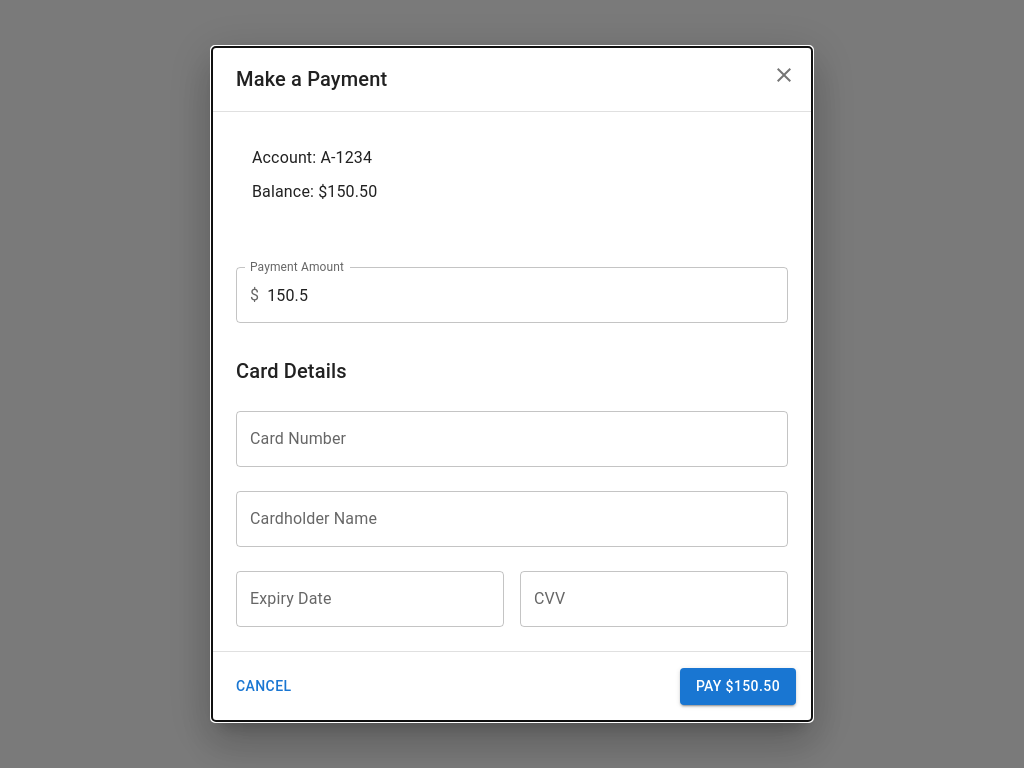
Test case: PaymentModal Component › successfully submits payment with valid form data
The width and height of the screenshot is (1024, 768).
// Fill in form fields with valid data
Type "4111111111111111" into the field labelled "Card Number".
click(512, 439); type("4111111111111111")  # box [236,411,788,467]
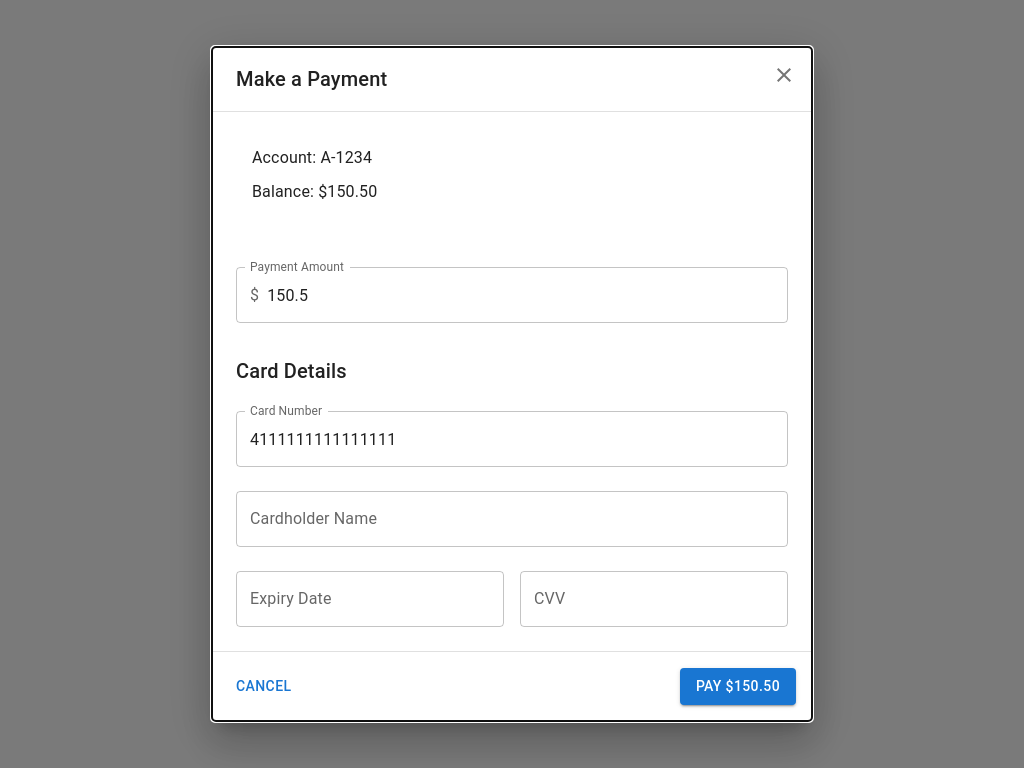
Type "John Doe" into the field labelled "Cardholder Name".
click(512, 519); type("John Doe")  # box [236,491,788,547]
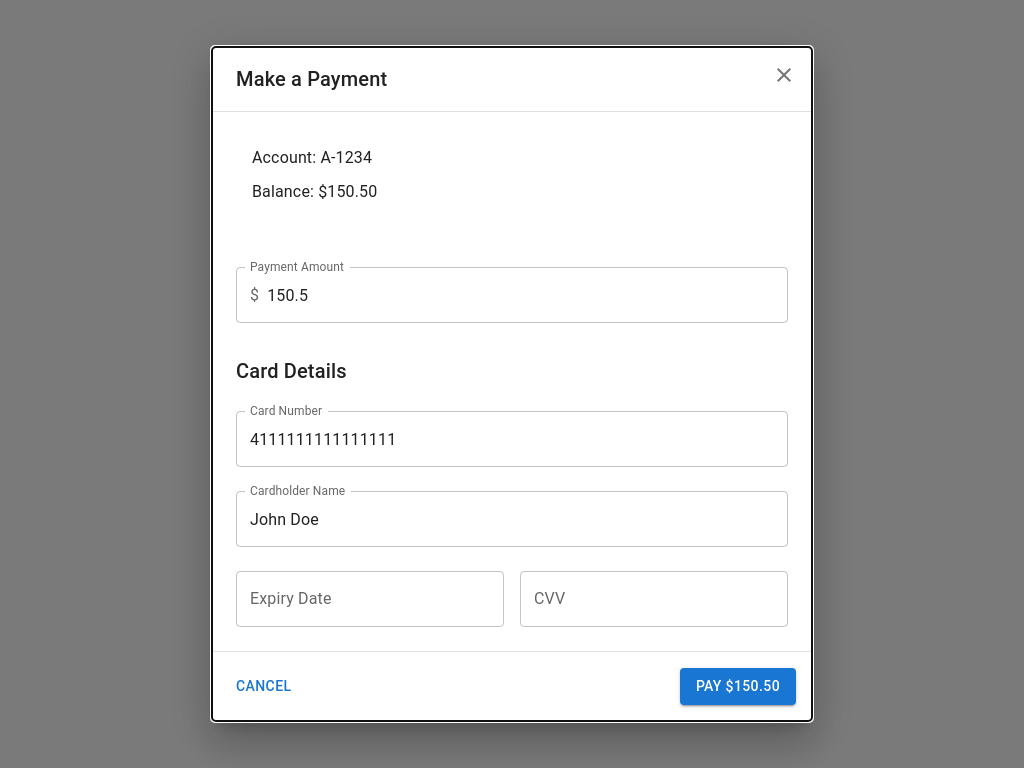
Type "12/30" into the field labelled "Expiry Date".
click(370, 599); type("12/30")  # box [236,571,504,627]
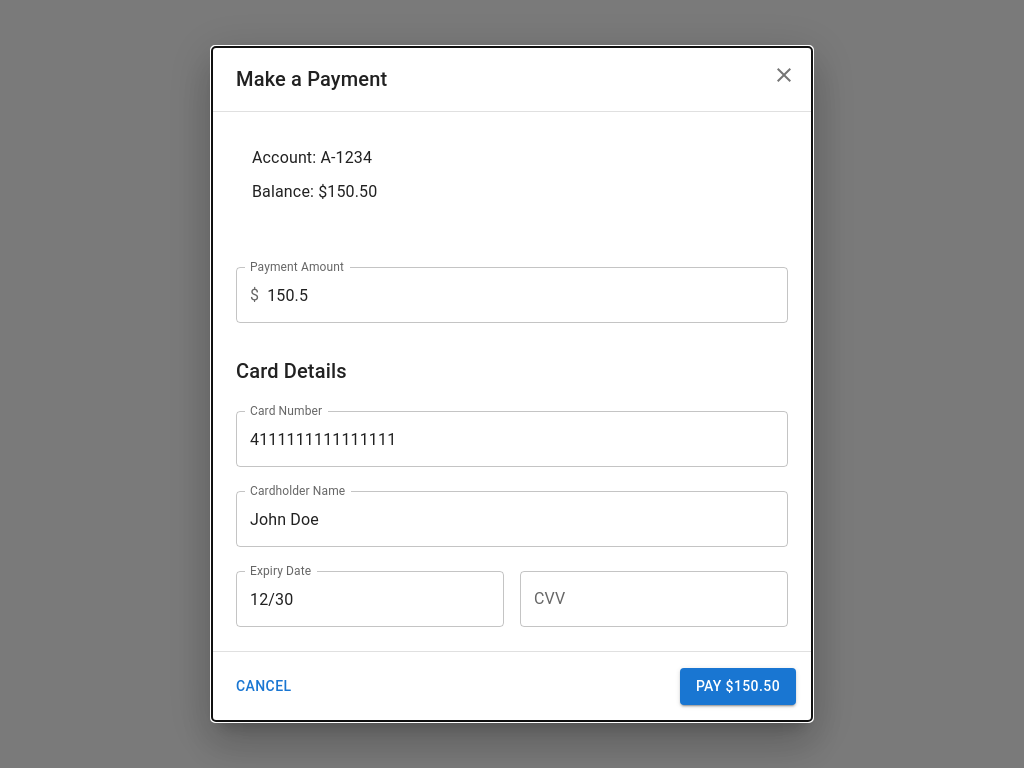
Type "123" into the password field labelled "CVV".
click(654, 599); type("123")  # box [520,571,788,627]
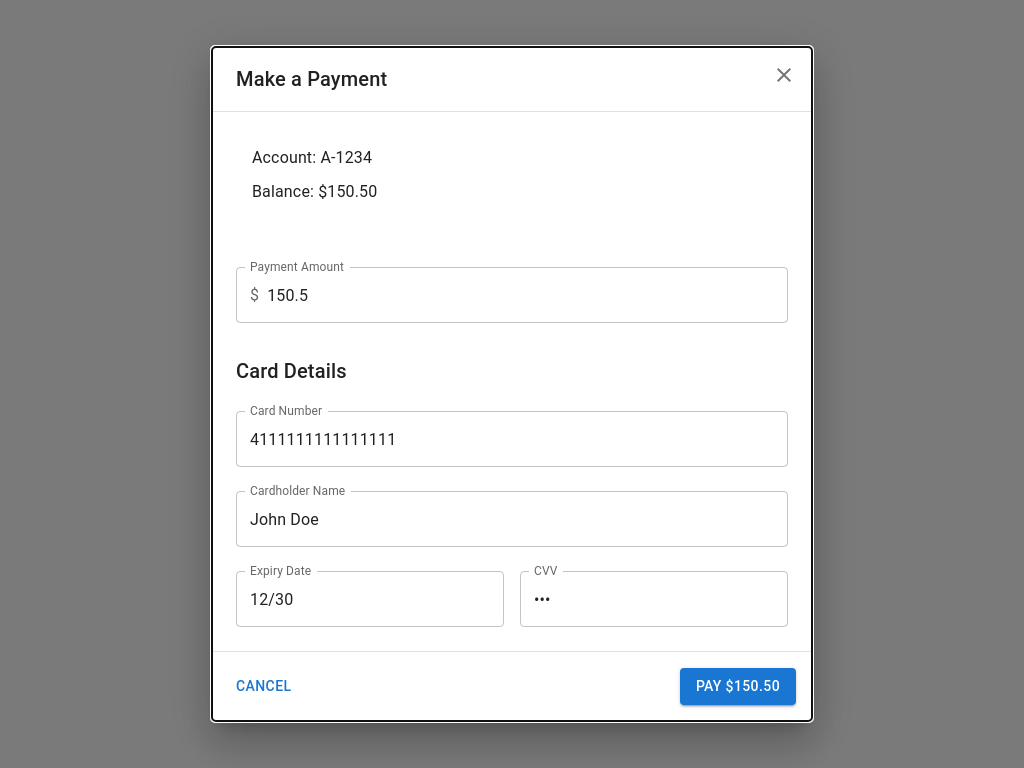
// Submit the form
Click the button "Pay $150.50".
click(738, 687)  # box [680,668,796,705]
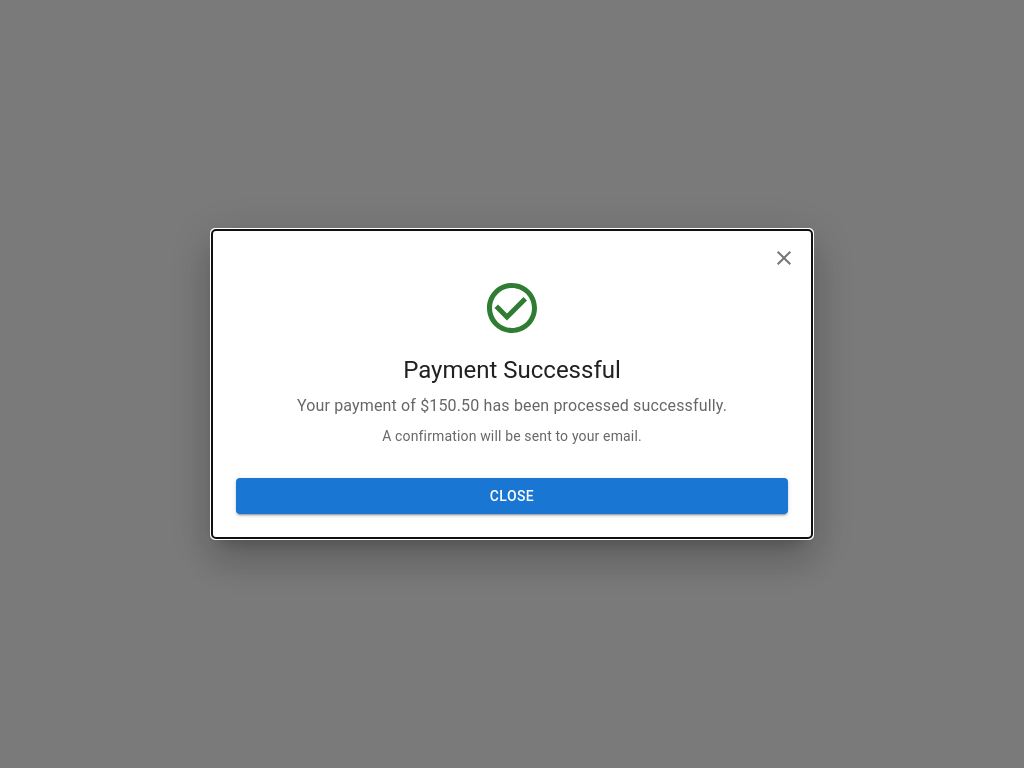
Now the heading "Payment Successful" is shown, box [403,354,621,386]
